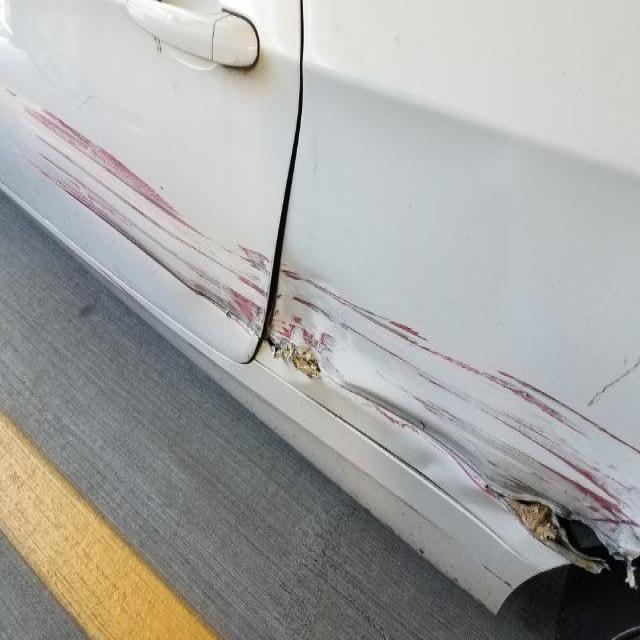Dent: (268, 300, 633, 572), (4, 186, 261, 366), (512, 489, 639, 584), (4, 0, 108, 95), (332, 376, 429, 432), (498, 369, 590, 422), (586, 342, 639, 402), (475, 558, 508, 586), (76, 298, 97, 318), (77, 91, 97, 109), (414, 416, 426, 432), (624, 352, 632, 368), (153, 36, 160, 52), (502, 577, 512, 587), (6, 88, 16, 96), (392, 33, 399, 44), (417, 546, 424, 554), (158, 184, 162, 191)
